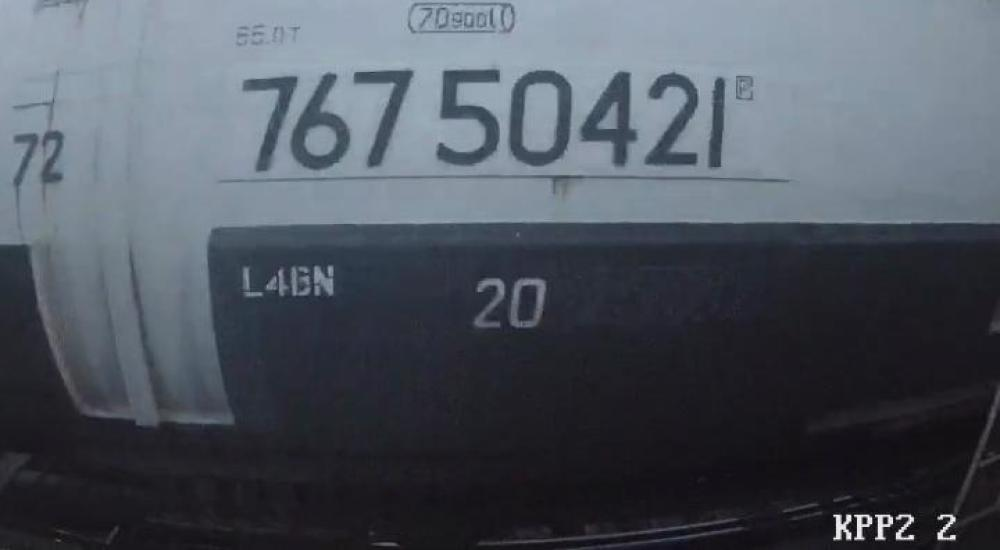Wagon-number: (240, 64, 732, 173)
